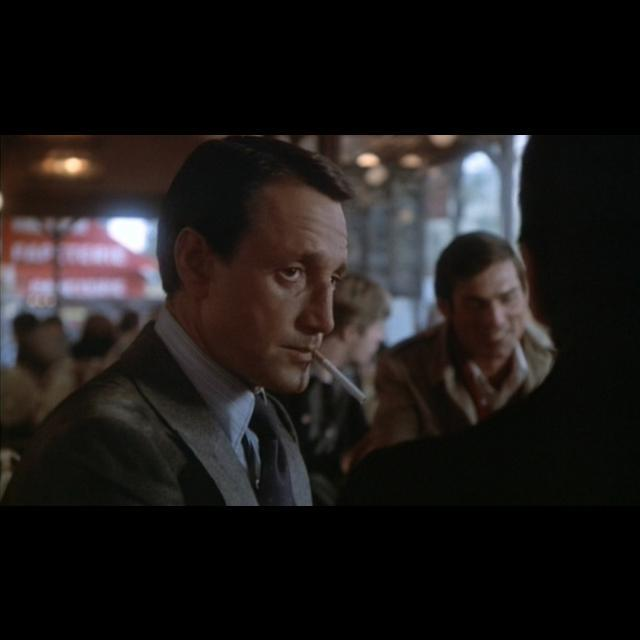rokok: (308, 342, 376, 408)
